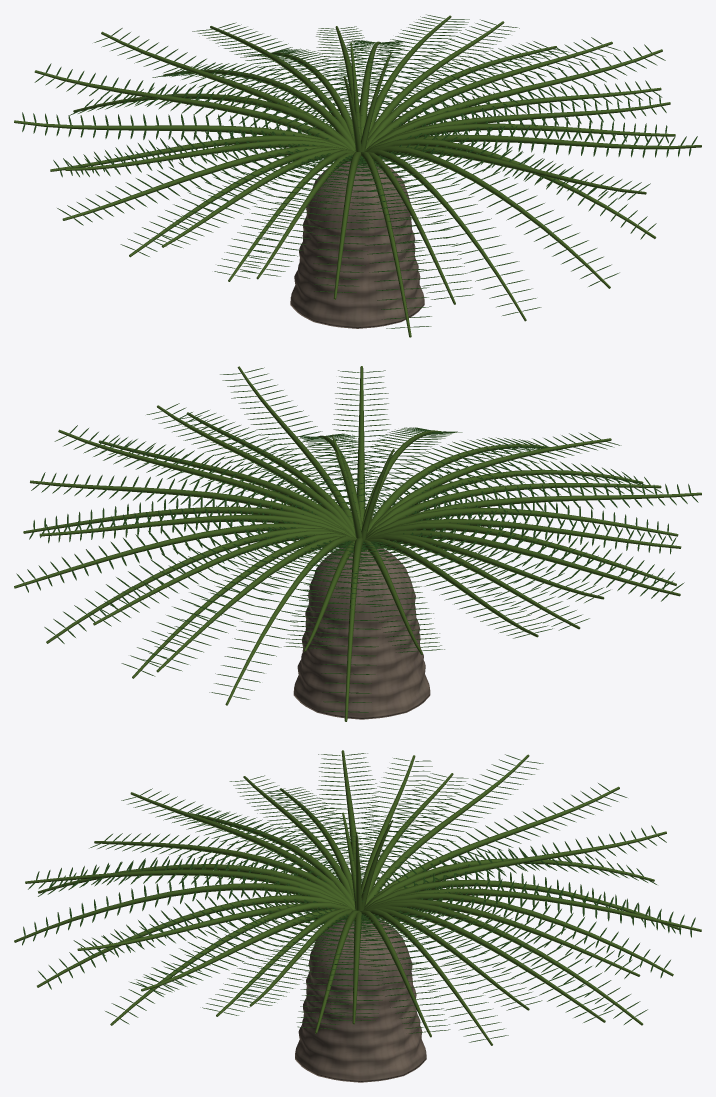
File: n-cycad.glb
The picture shows the model from 3 angles, top to bottom: view 1: azimuth 30°, elevation 25°; view 2: azimuth 150°, elevation 25°; view 3: azimuth 270°, elevation 25°; orthographic projection. The views are drawn at different scales.
Parts seen in each view (by area): view 1: Stems, Foliage, Bark; view 2: Stems, Foliage, Bark; view 3: Stems, Foliage, Bark.
Part boxes in pixels (left/top/right/bottom): Stems: left=14, top=15, right=701, bottom=337; Foliage: left=22, top=14, right=697, bottom=328; Bark: left=290, top=161, right=424, bottom=328; Stems: left=14, top=366, right=701, bottom=721; Foliage: left=16, top=367, right=698, bottom=712; Bark: left=293, top=546, right=430, bottom=719; Stems: left=14, top=750, right=701, bottom=1045; Foliage: left=22, top=753, right=695, bottom=1042; Bark: left=295, top=919, right=426, bottom=1082.
Bounding box in the file's own units: 2.7 × 1.04 × 2.71.
Materials: 3 (2 with a texture image).
